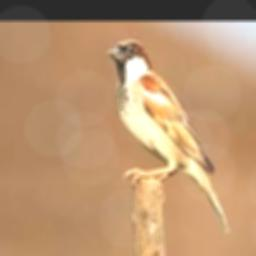Sparrow: (107, 39, 231, 235)
